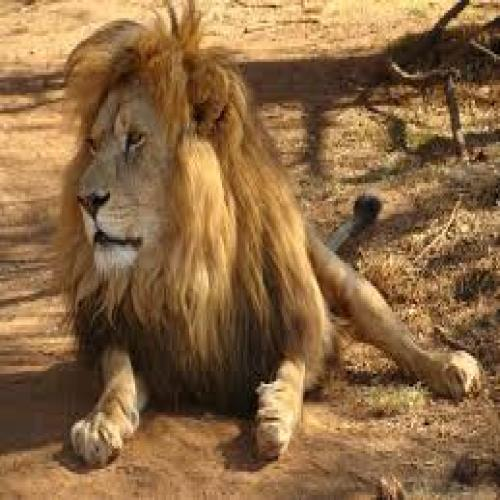lion-endangered: (57, 22, 480, 462)
